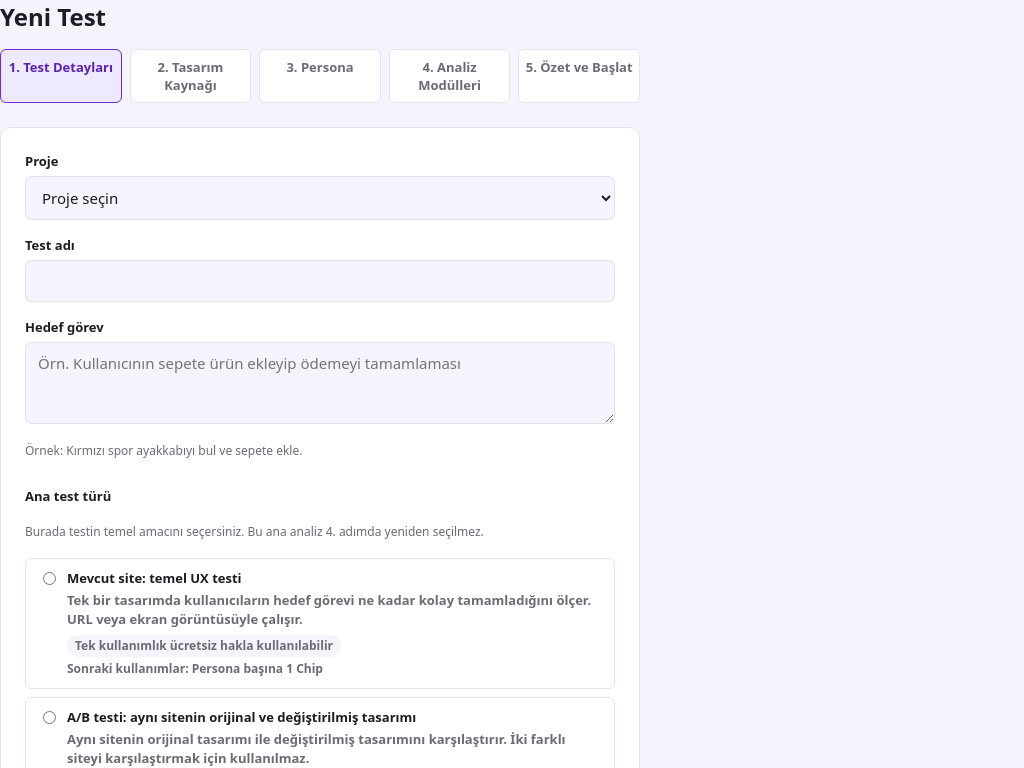
Test: TestWizard › hedef gorev yalnizca nokta ise inline hata gosterir ve bir sonraki adima gecisi engeller
The image size is (1024, 768).
Check: the list item "1. Test Detayları" is shown, box [0,49,122,103]
Type "." into the text box labelled "Hedef görev" at (320, 383), box [25,342,615,424]
(page scrolled)
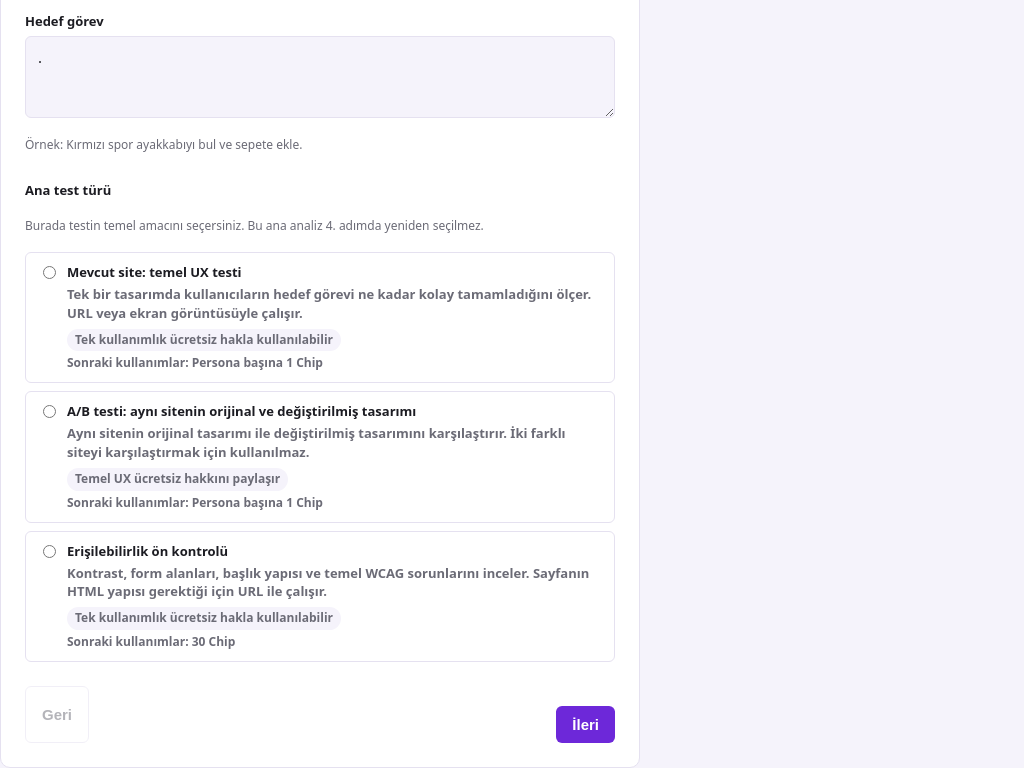
Click the button "İleri" at (586, 724), box [556,706,615,743]
(page scrolled)
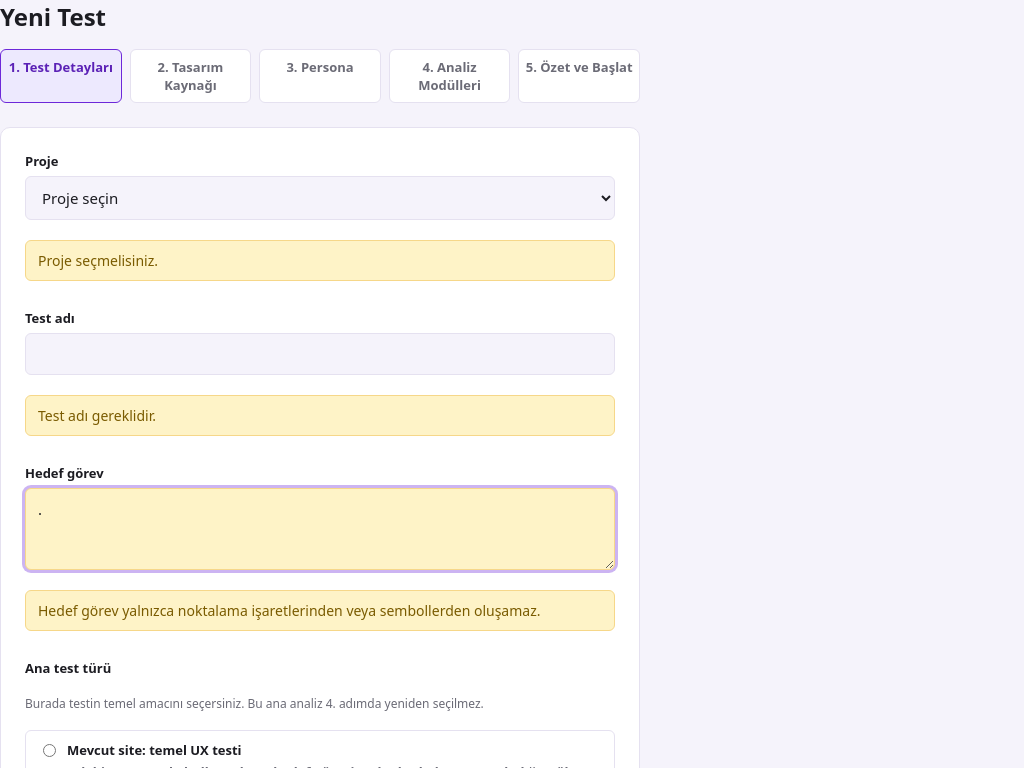
Check: the list item "1. Test Detayları" is shown, box [0,49,122,103]
Check: the text "Hedef görev yalnızca noktalama işaretlerinden veya sembollerden oluşamaz." is shown, box [25,590,615,631]
